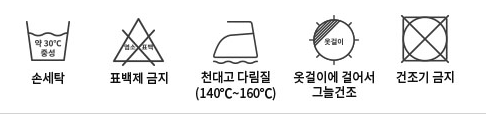KR_hand_wash_30_neutral: (22, 16, 74, 64)
KR_hang_dry_in_shade: (305, 13, 363, 68)
KR_no_chlorine_bleach: (106, 13, 169, 67)
KR_no_tumble_dry: (397, 12, 452, 66)
